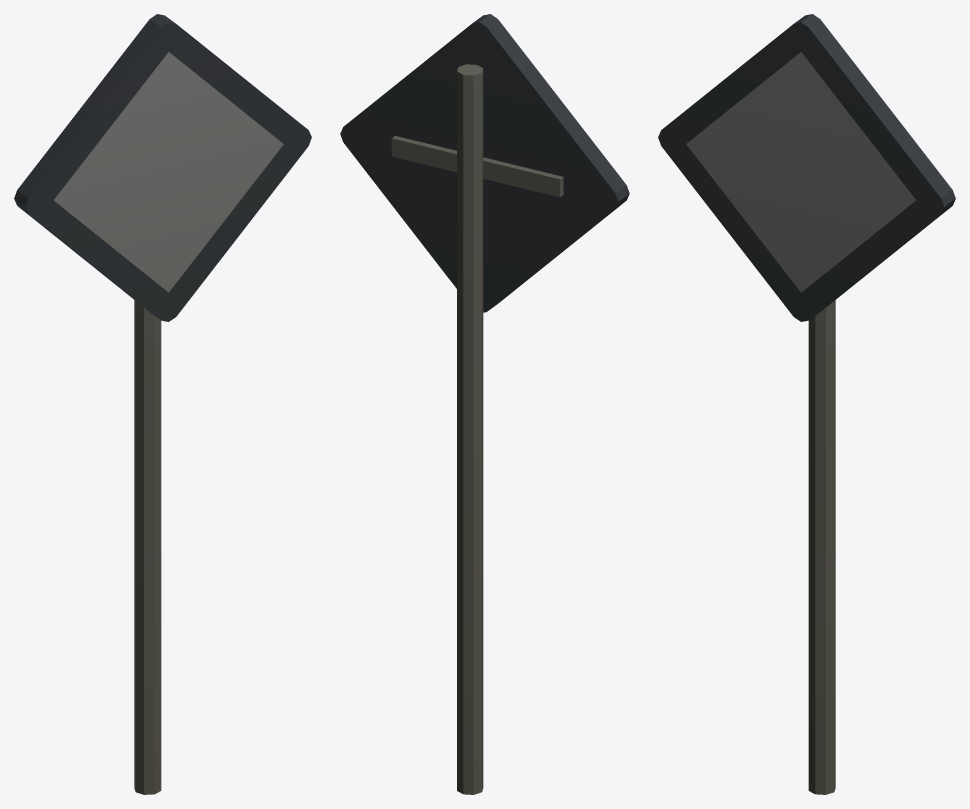
Rendered from RoadSign_01.fbx.
3 views of the same model, side by side, from view 1: azimuth 30°, elevation 25°; view 2: azimuth 150°, elevation 25°; view 3: azimuth 330°, elevation 25° (orthographic). The views are drawn at different scales.
Visible parts, largest first — view 1: RoadSign_01; view 2: RoadSign_01; view 3: RoadSign_01.
Part boxes in pixels (x1,y1,x2,y2): RoadSign_01: (14, 14, 311, 794); RoadSign_01: (340, 14, 629, 794); RoadSign_01: (658, 14, 955, 794).
Size of the model in its own units: 0.7136 by 1.86 by 0.1209.
